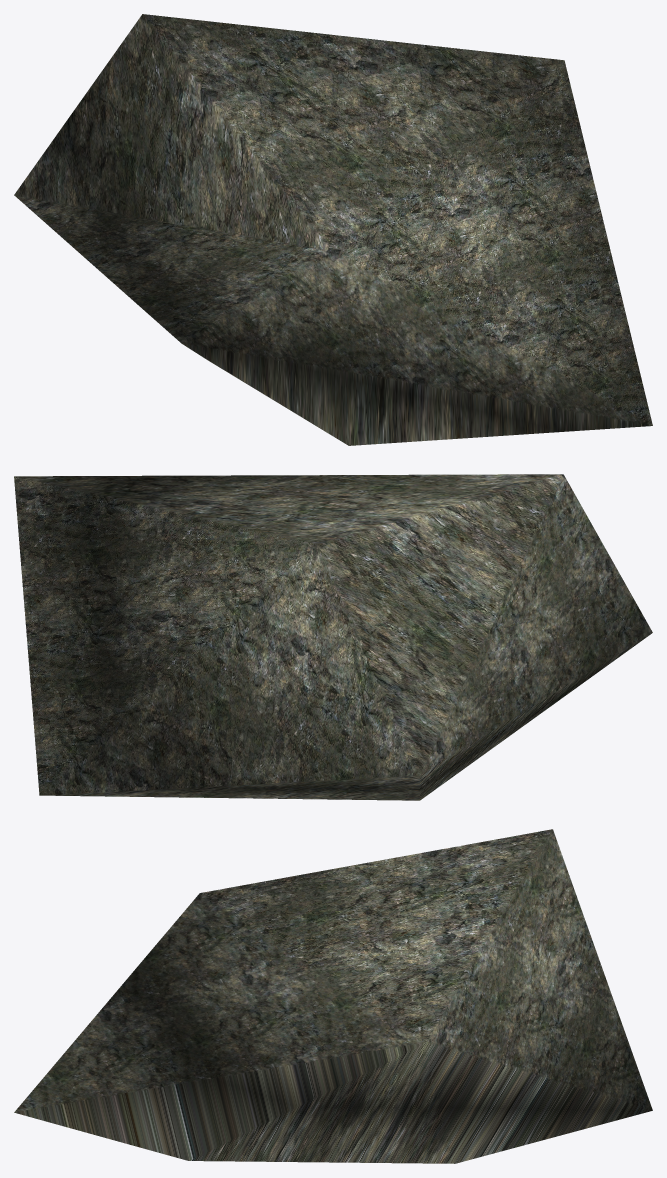
File: mtns_rock_grey_a11_l3.fbx
3 views of the same model, one above another, from view 1: azimuth 30°, elevation 25°; view 2: azimuth 150°, elevation 25°; view 3: azimuth 270°, elevation 25° (orthographic). The views are drawn at different scales.
Visible parts, largest first — view 1: mesh_node; view 2: mesh_node; view 3: mesh_node.
Part boxes in pixels (box(x1,y1,x2,y2)): mesh_node: box(14, 14, 652, 445); mesh_node: box(14, 474, 652, 800); mesh_node: box(14, 829, 652, 1163).
Bounding box in the file's own units: 1.5 × 0.8633 × 2.01.
Materials: 1 (1 with a texture image).
